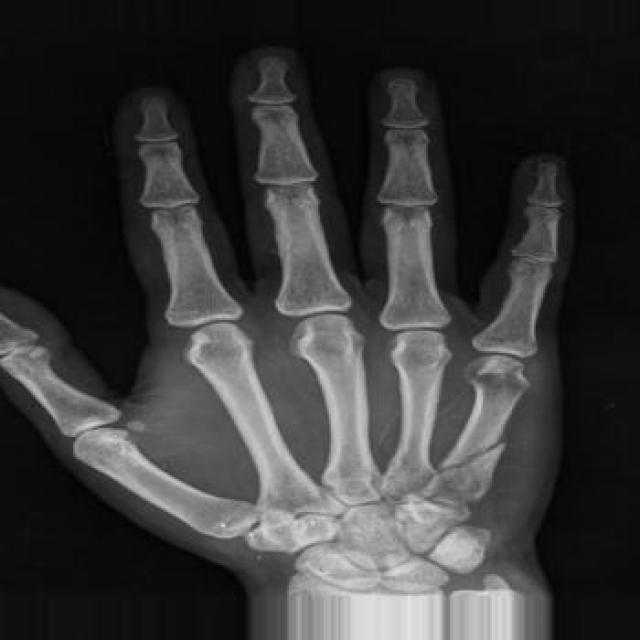Fracture: (434, 433, 518, 482)
